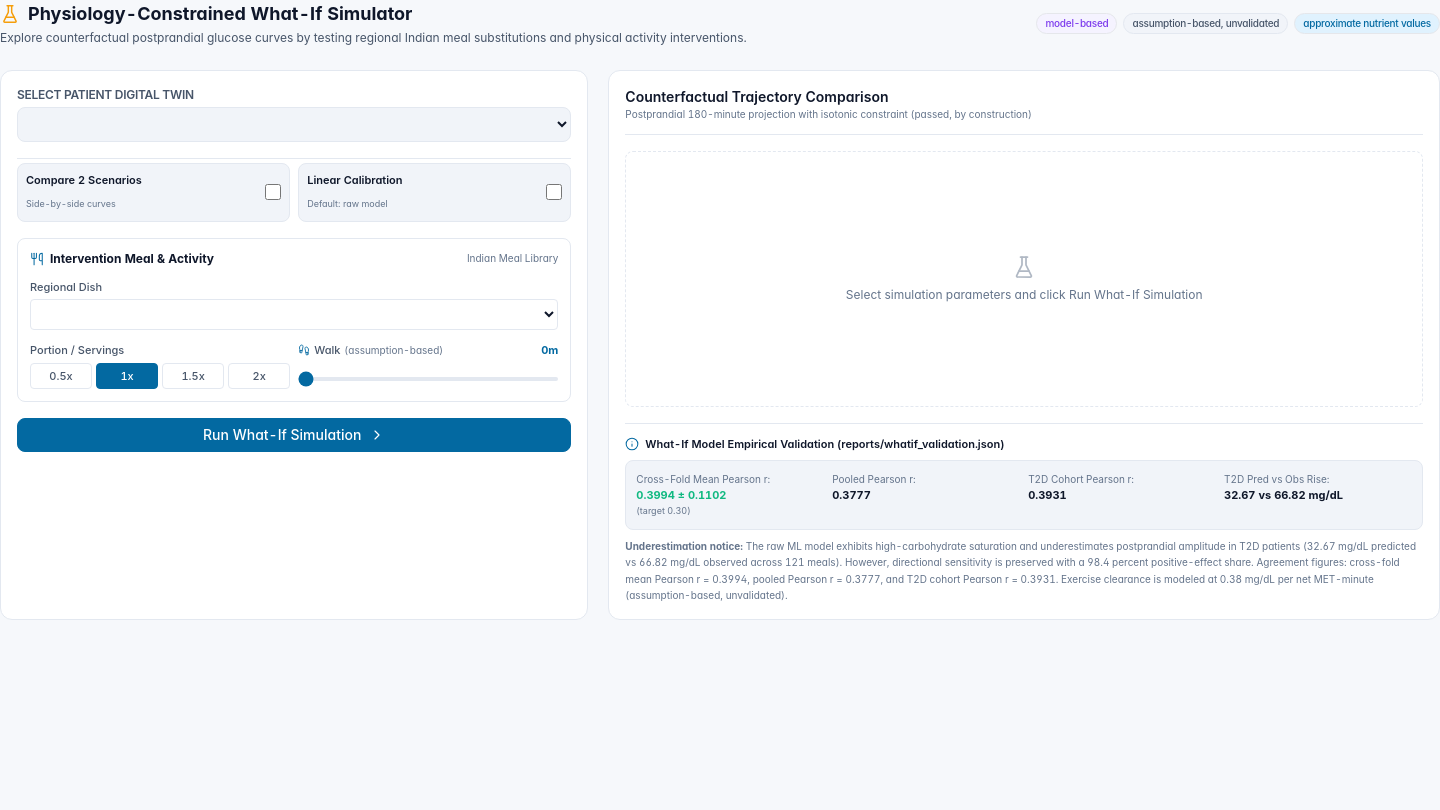
Test: What-If Page Specification › renders curves, fans, delta chips for each scenario, B minus A row, and assumption-based walk label in compare mode
Click the checkbox next to "Compare 2 Scenarios".
click(273, 192)  # box [265, 184, 281, 200]
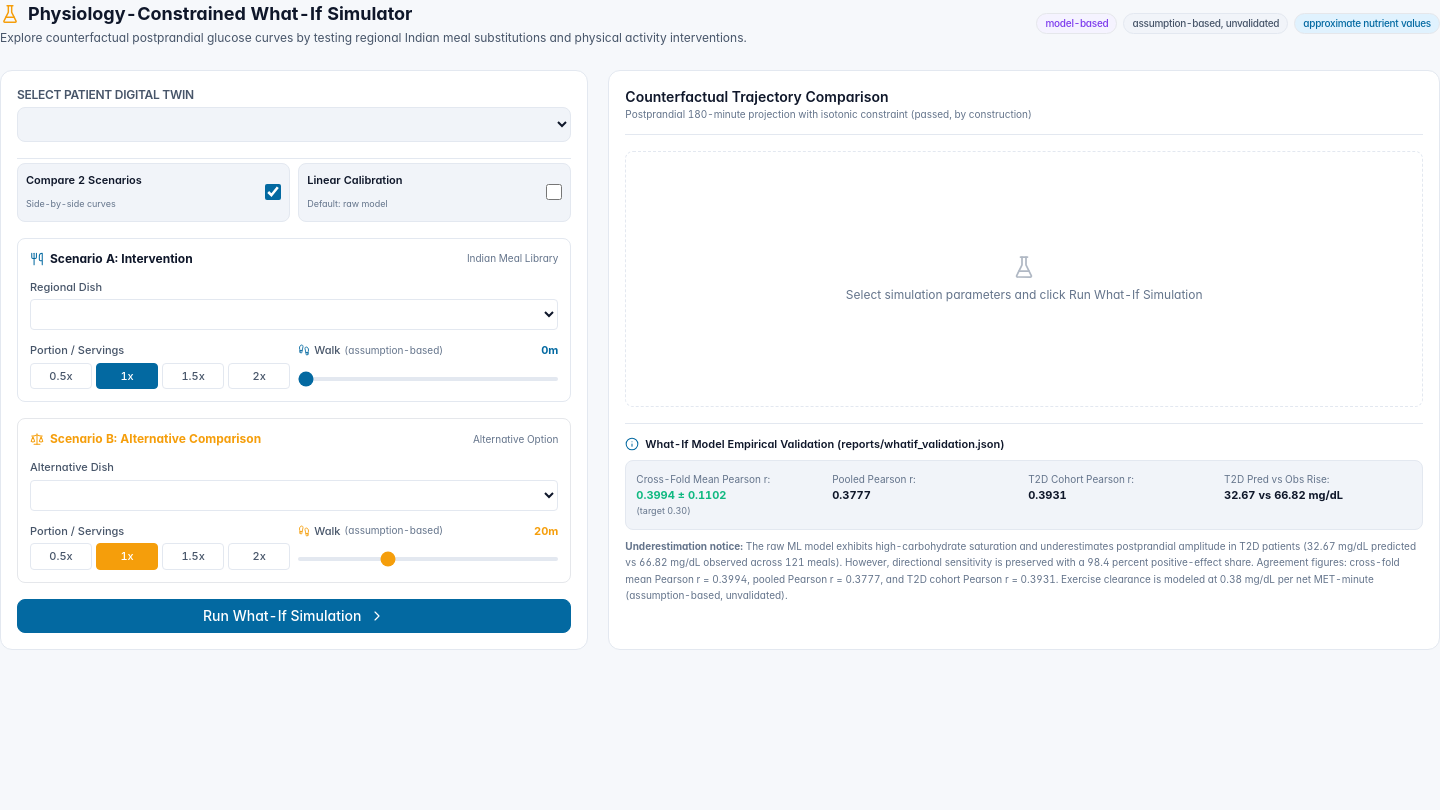
Click the button "Run What-If Simulation".
click(294, 616)  # box [17, 598, 571, 632]
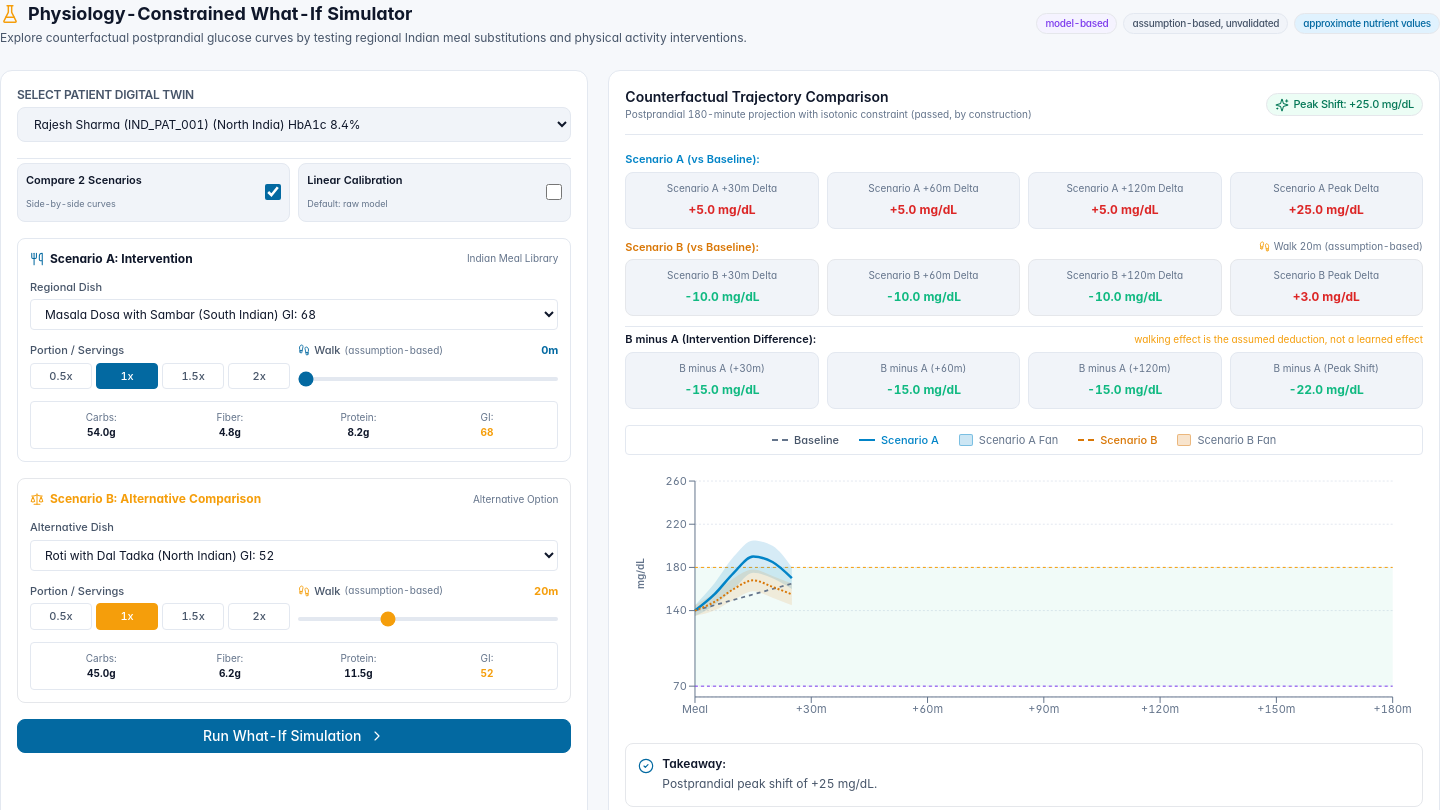
Expected: the text "Scenario A (vs Baseline):" is shown, [625, 151, 760, 168]
Expected: the text "Scenario B (vs Baseline):" is shown, [625, 238, 759, 255]
Expected: the text "B minus A (Intervention Difference):" is shown, [625, 331, 816, 348]
